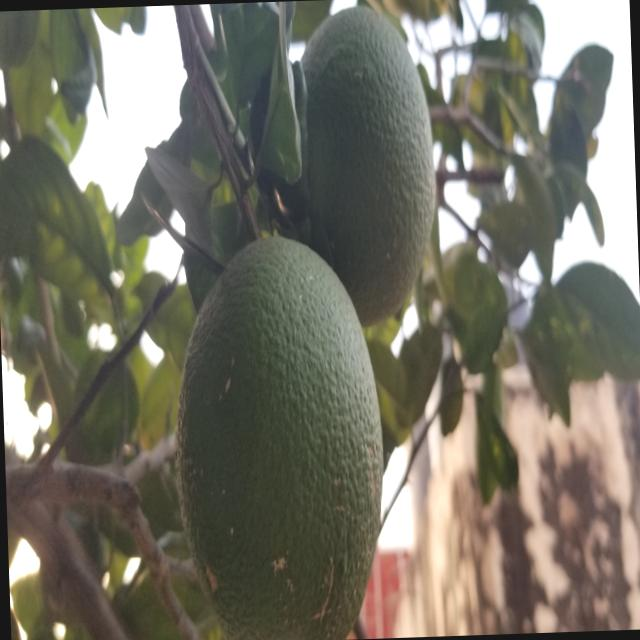Unripe: (171, 226, 396, 640), (271, 0, 441, 337)
